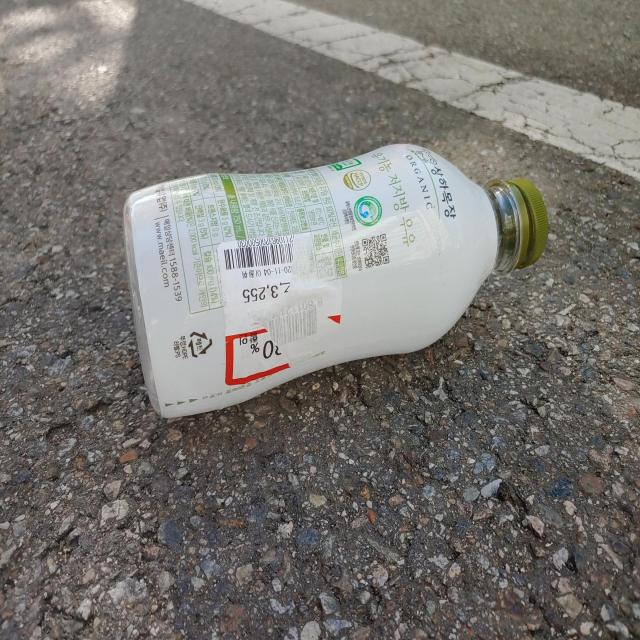plastic: (124, 144, 550, 418)
